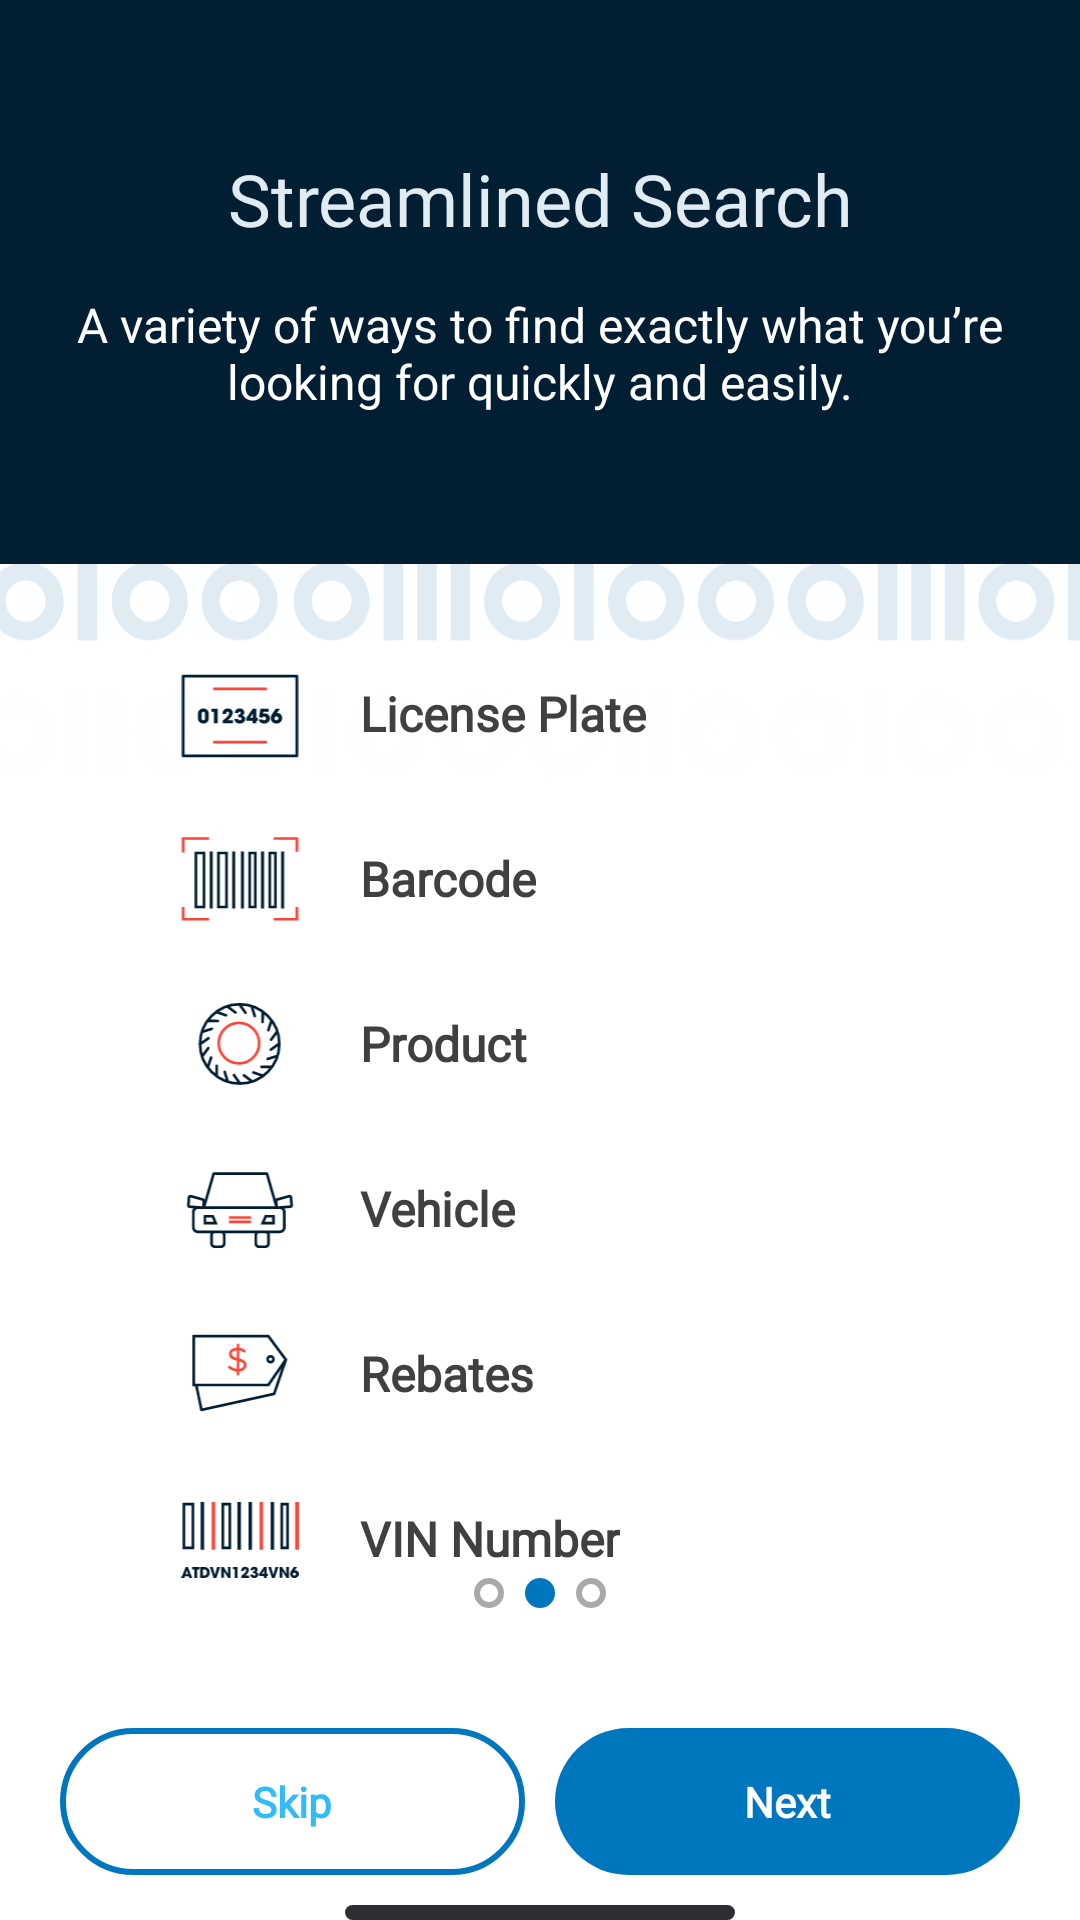

Named icons in this screenshot (1080*1920) and their bounding boxes, (x1, y1, x2, y2):
indicator: (474, 1578, 504, 1608), (525, 1578, 555, 1608), (576, 1578, 606, 1608)
rebate onboarding: (192, 1334, 288, 1412)
vin onboarding: (181, 1502, 299, 1578)
